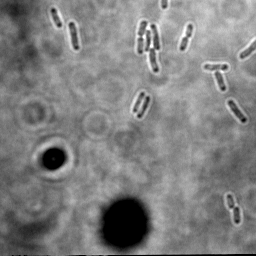Dividing: (178, 21, 195, 53)
Microcolony: (135, 20, 161, 74)
Rod: (226, 98, 248, 124), (135, 94, 153, 120), (68, 20, 81, 52), (131, 89, 146, 114), (212, 70, 228, 93), (201, 61, 230, 73), (49, 7, 63, 28), (232, 205, 242, 224), (225, 193, 236, 210)
